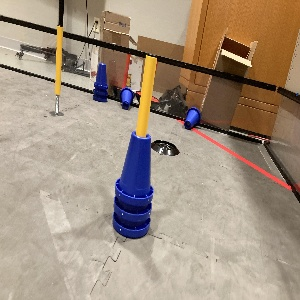Blue_3: (113, 121, 151, 239)
